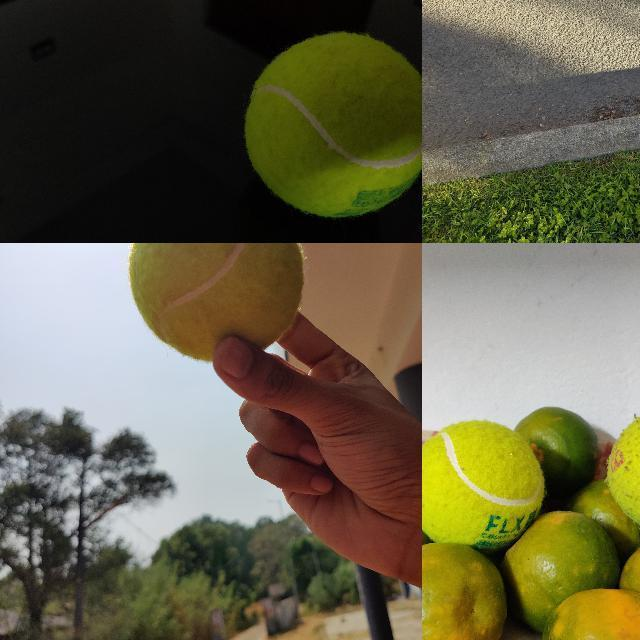tennis-ball: (244, 32, 421, 217), (127, 243, 303, 362), (422, 419, 519, 540), (606, 405, 639, 533)
